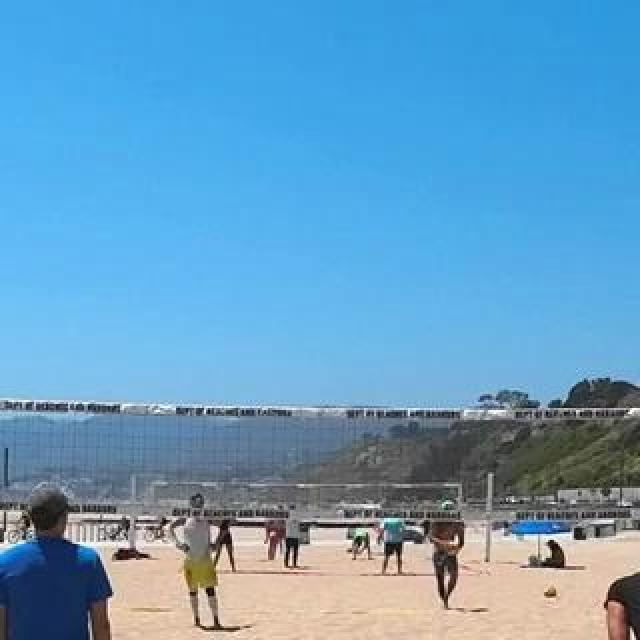volleyball: (447, 540, 459, 556), (545, 586, 557, 600)
